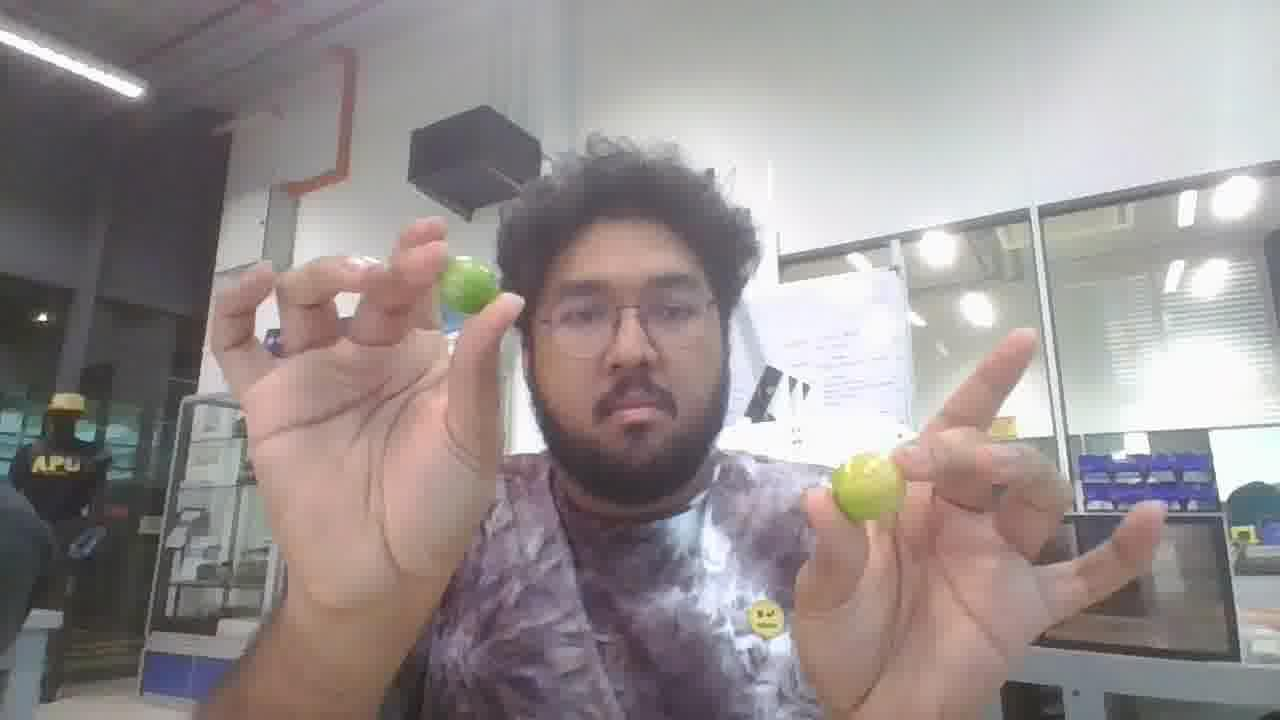green_cherry_tomato: (830, 452, 905, 520), (437, 256, 499, 316)
